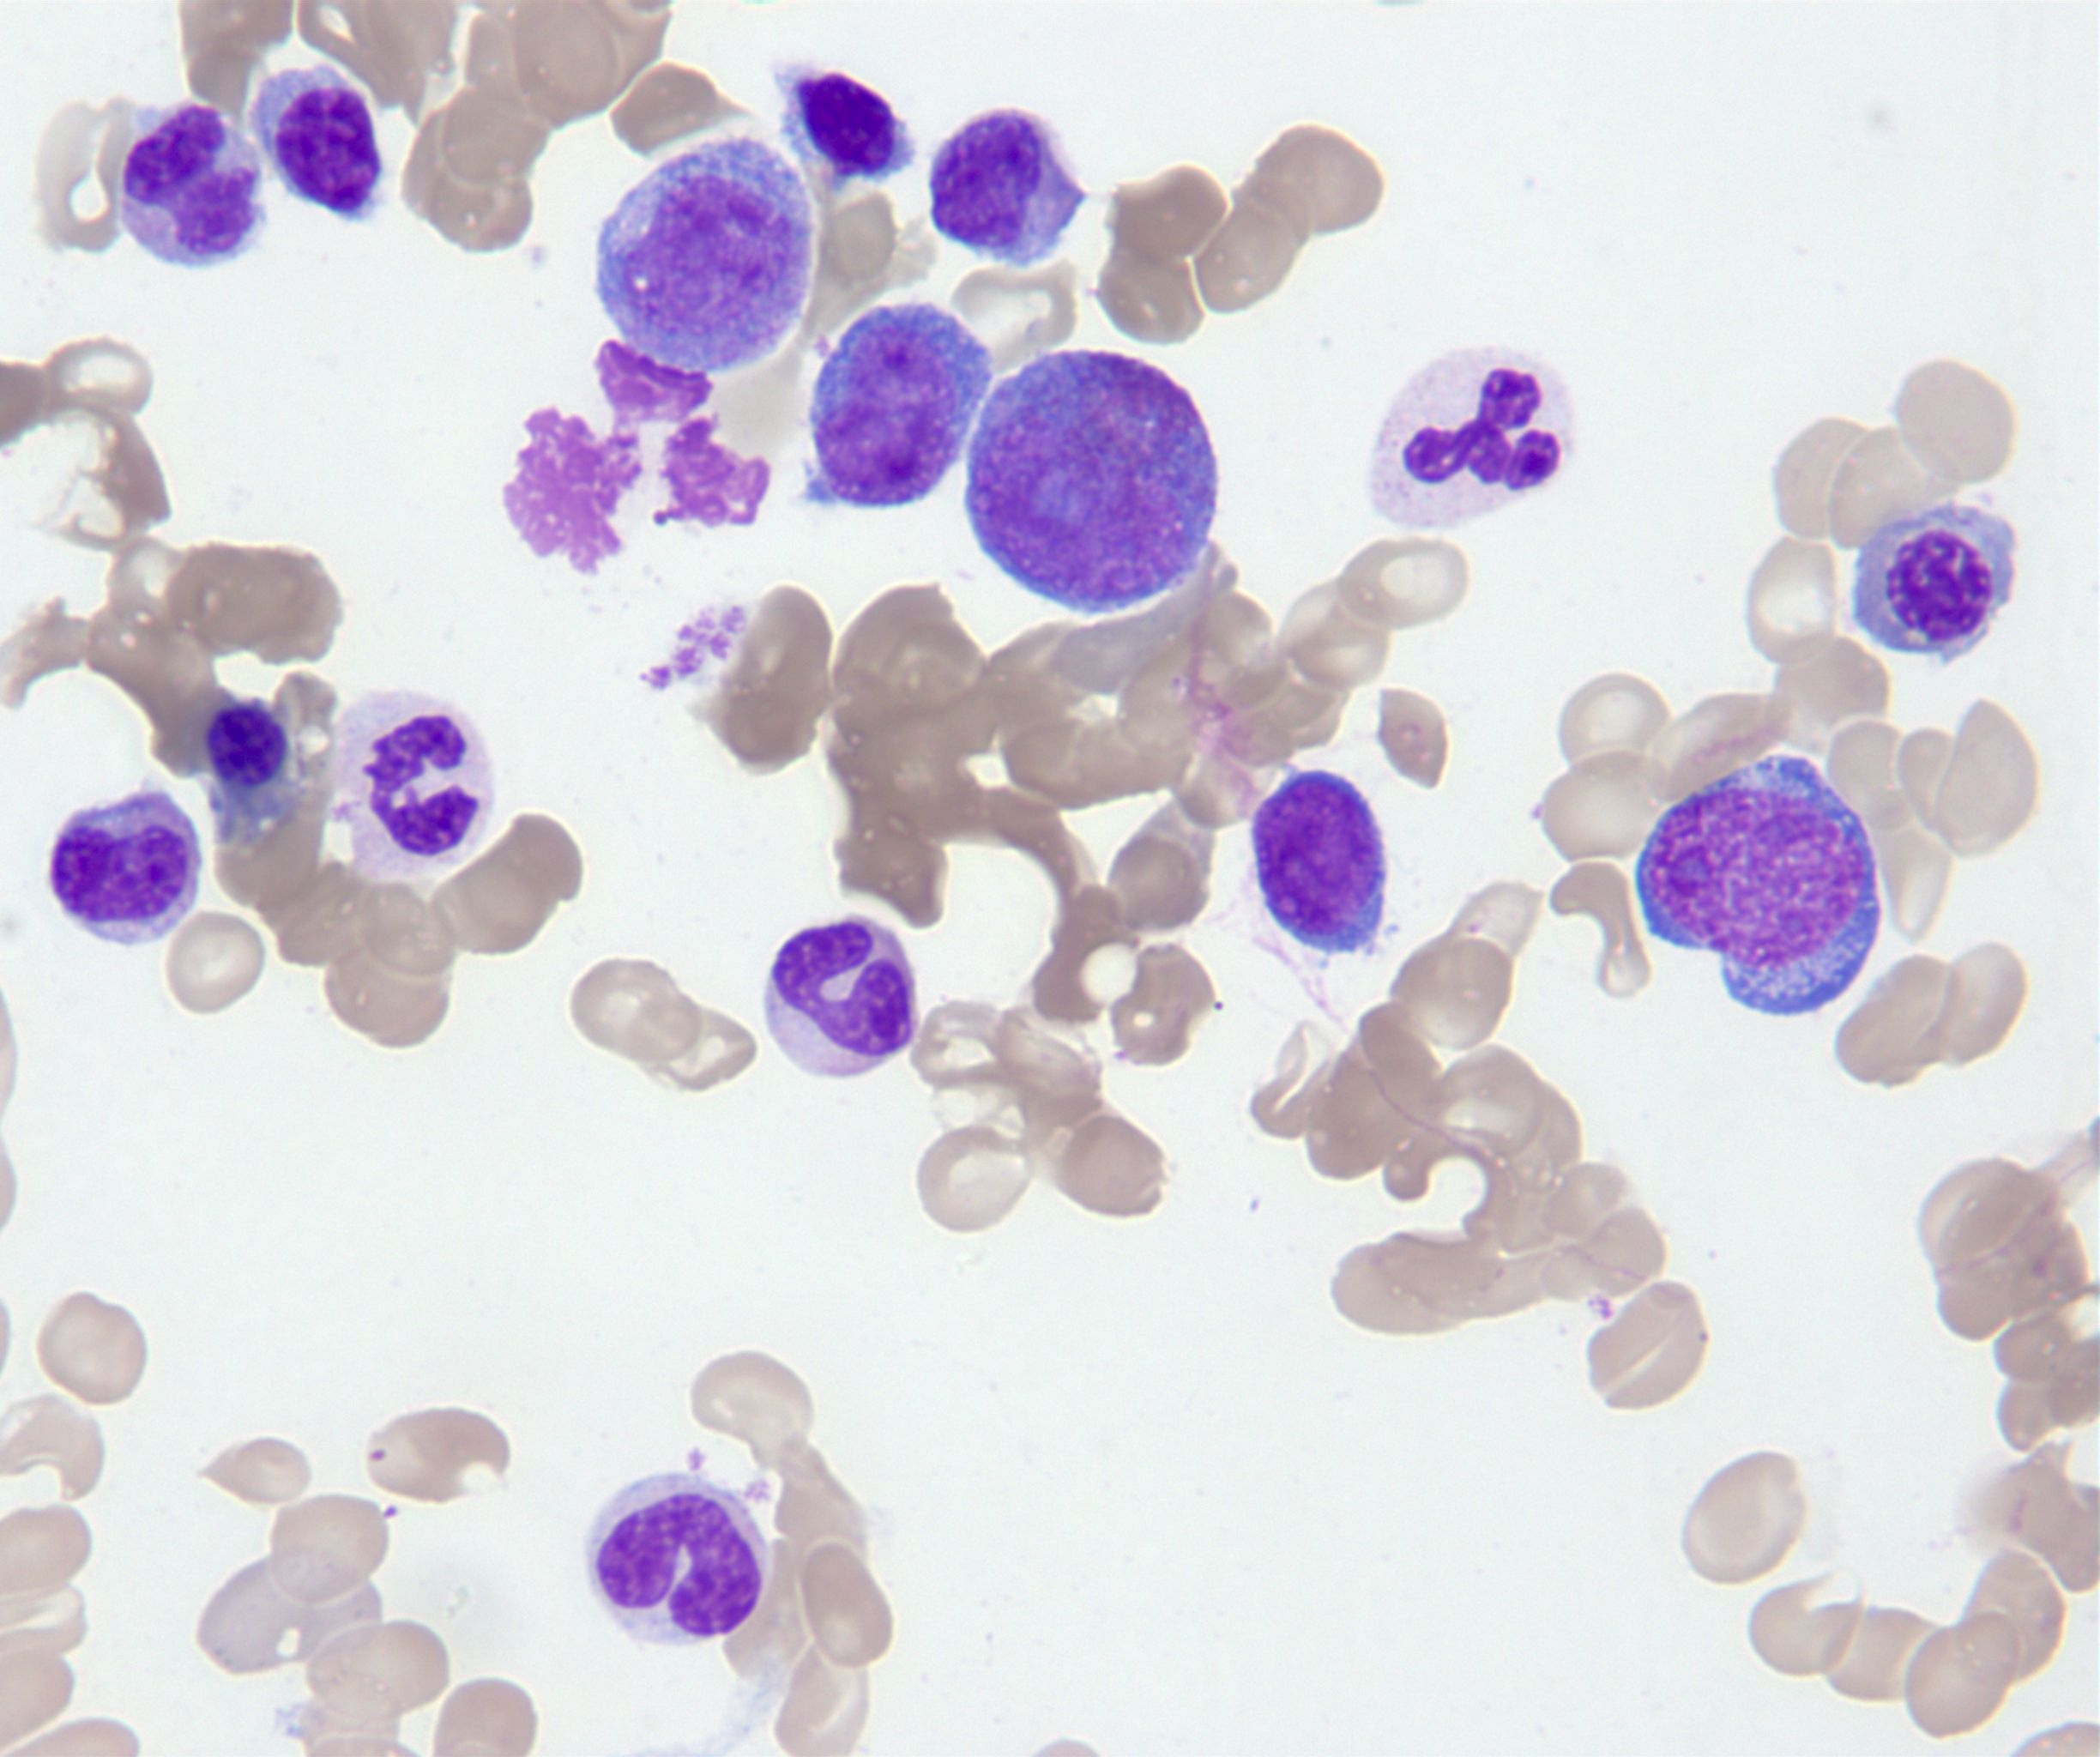1: (1251, 769, 1387, 953)
2: (966, 352, 1217, 612), (595, 138, 815, 373), (811, 304, 991, 508)
22: (1636, 755, 1878, 1015)
24: (1852, 501, 2015, 663), (195, 687, 300, 850)
3: (928, 106, 1083, 267)
32: (248, 63, 380, 223), (771, 54, 914, 188)
4: (112, 98, 265, 270), (49, 789, 202, 946)
5: (588, 1474, 766, 1647), (764, 916, 917, 1078)
6: (1373, 347, 1570, 527), (321, 687, 494, 886)
x: (504, 342, 771, 578)
